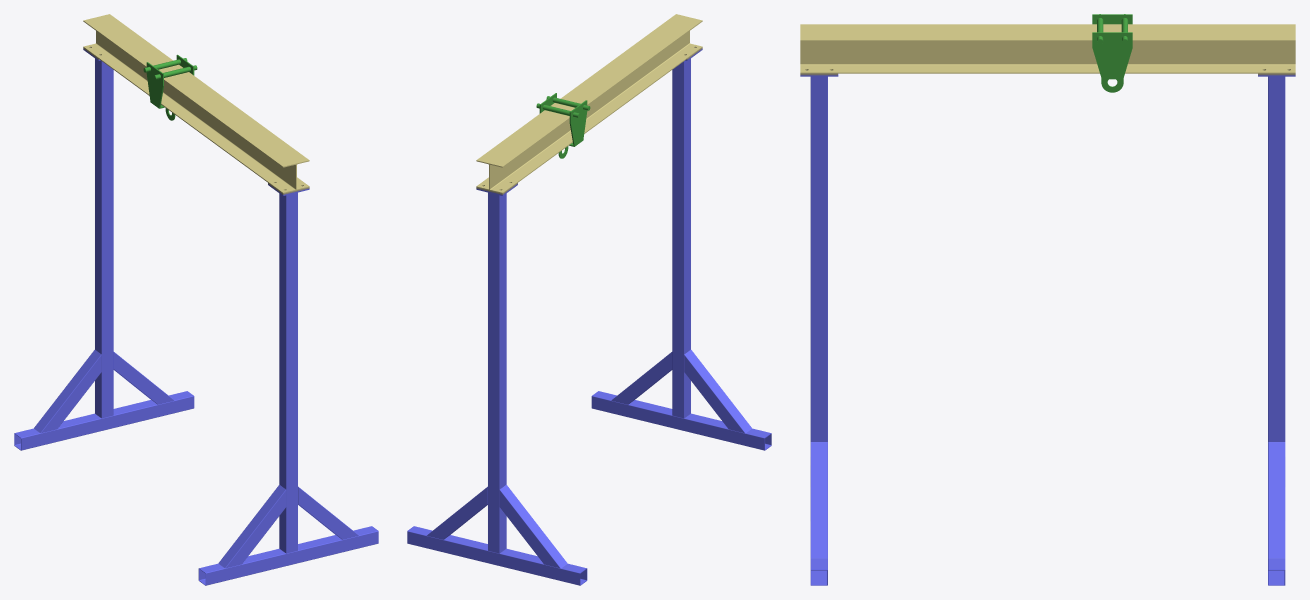
Rendered from CRANE.glb.
3 renders of one model, left to right at view 1: azimuth 30°, elevation 25°; view 2: azimuth 150°, elevation 25°; view 3: azimuth 270°, elevation 25°, orthographic. The views are drawn at different scales.
Visible parts, largest first — view 1: color-2, color, color-6; view 2: color-2, color, color-6; view 3: color, color-2, color-6.
Boxes of the visible parts, x1,y1,x2,y2 form: color-2: (14,49,378,585); color: (83,14,309,193); color-6: (143,54,197,120); color-2: (407,49,771,585); color: (476,14,702,193); color-6: (536,93,590,158); color: (800,24,1295,73); color-2: (800,74,1295,585); color-6: (1092,14,1132,92).
Size of the model in its own units: 2 by 4.54 by 4.
